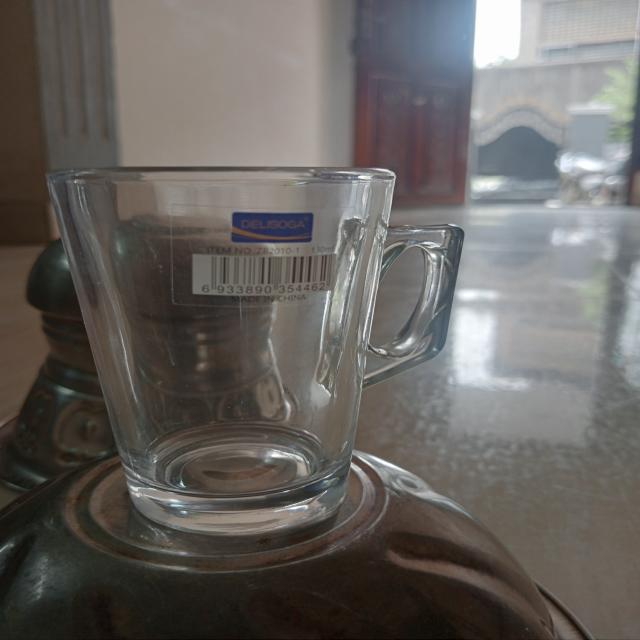glass-VX4N: (44, 162, 464, 540)
